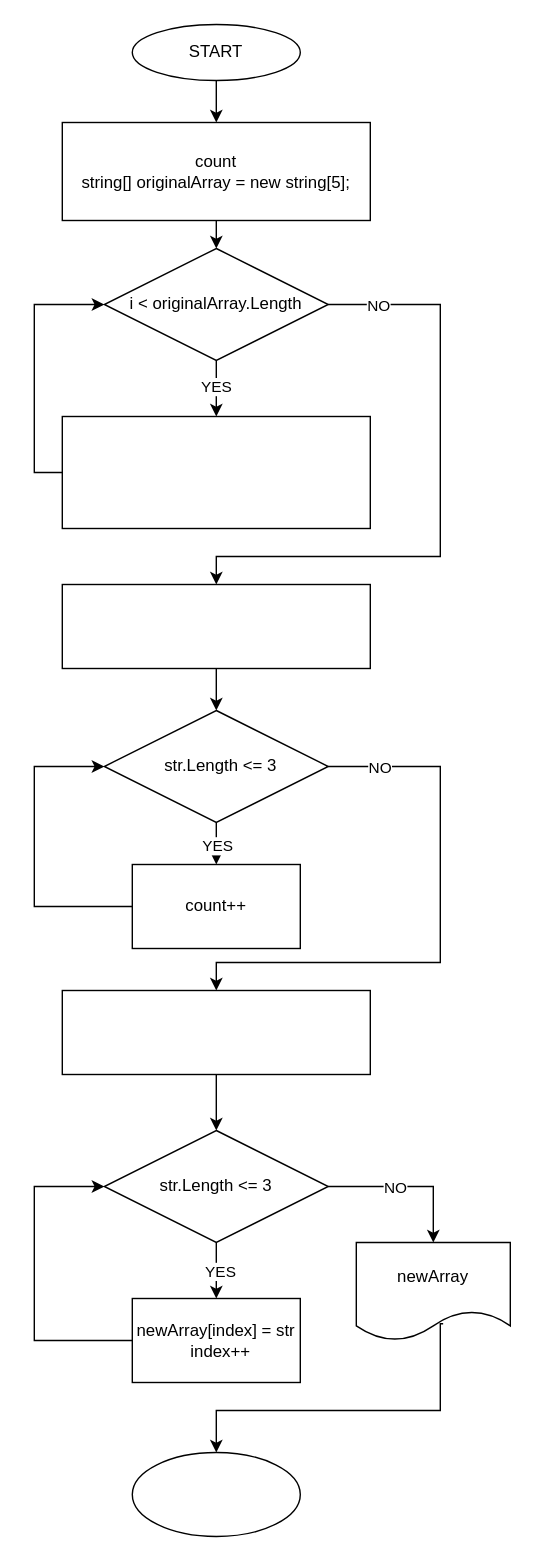
This 535x1561 diagram has some shape labels left out. Here are the shapes that lost their labels. From the top down, the box of each, then its label:
(61, 415, 370, 528): Console.Write($"Элемент {i + 1}: "); originalArray[i] = Console.ReadLine(); i++
(61, 583, 370, 668): count = 0
(61, 989, 370, 1074): string[] newArray = new string[count] int index = 0
(131, 1451, 300, 1536): END
